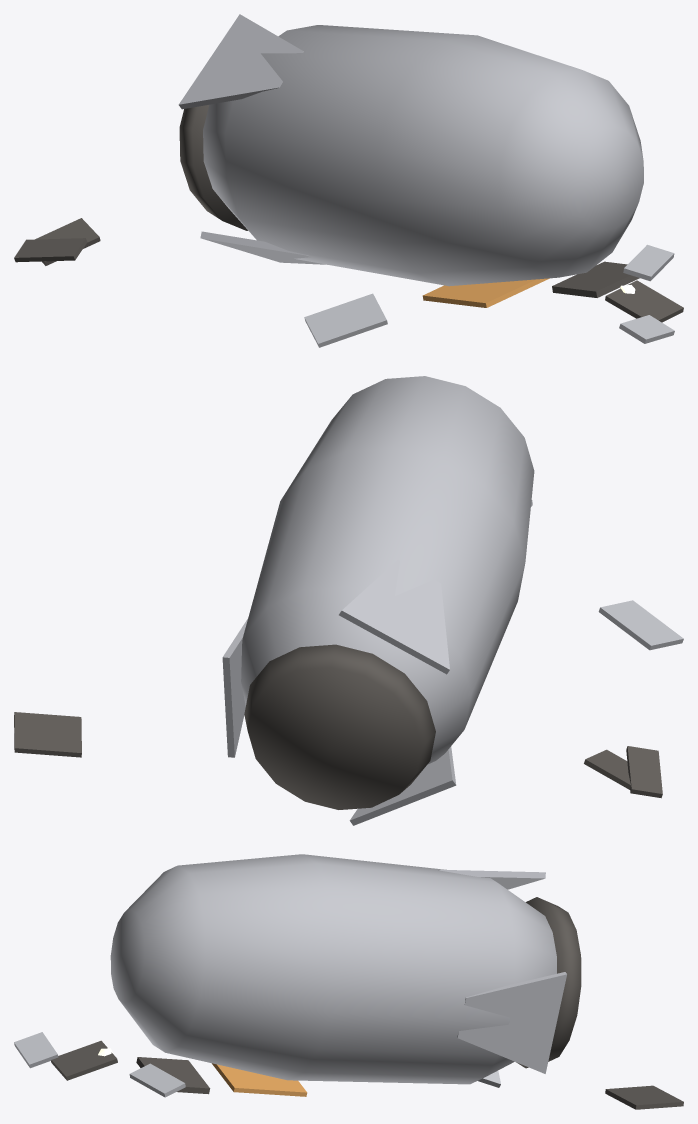
The model's file is wreck_pod.fbx.
3 views of the same model, one above another, from view 1: azimuth 30°, elevation 25°; view 2: azimuth 150°, elevation 25°; view 3: azimuth 270°, elevation 25° (orthographic). The views are drawn at different scales.
Parts seen in each view (by area): view 1: wreck_pod; view 2: wreck_pod; view 3: wreck_pod.
Part boxes in pixels (x1=…): wreck_pod: x1=14, y1=14, x2=683, y2=347; wreck_pod: x1=14, y1=376, x2=683, y2=825; wreck_pod: x1=14, y1=854, x2=683, y2=1109.
Size of the model in its own units: 7.16 by 3.66 by 8.57.
